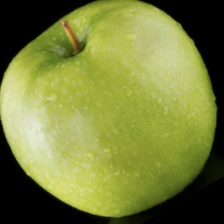apple: (47, 32, 215, 209)
